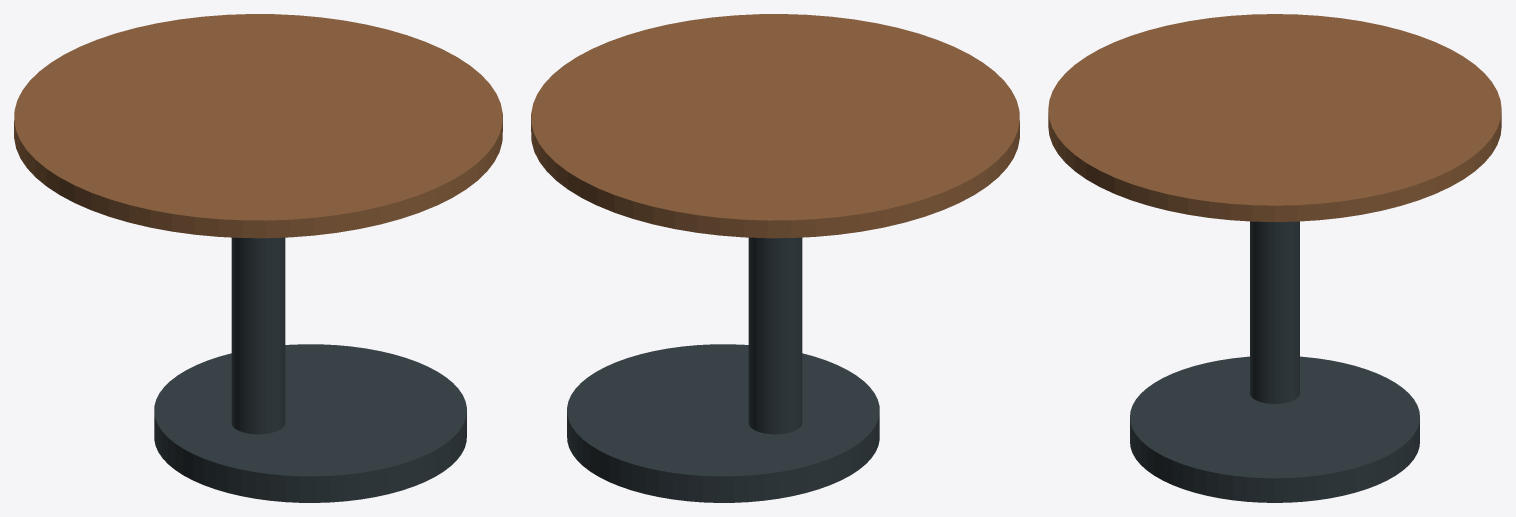
The model's file is source-edit.glb.
The picture shows the model from 3 angles, left to right: view 1: azimuth 30°, elevation 25°; view 2: azimuth 150°, elevation 25°; view 3: azimuth 270°, elevation 25°; orthographic projection. The views are drawn at different scales.
Visible parts, largest first — view 1: Round_Top, Base, Pedestal; view 2: Round_Top, Base, Pedestal; view 3: Round_Top, Base, Pedestal.
Part boxes in pixels (x1,y1,x2,y2): Round_Top: (14, 14, 502, 238); Base: (154, 344, 466, 502); Pedestal: (231, 237, 285, 434); Round_Top: (531, 14, 1019, 238); Base: (567, 344, 879, 502); Pedestal: (748, 237, 802, 434); Round_Top: (1048, 14, 1501, 221); Base: (1130, 356, 1419, 502); Pedestal: (1250, 221, 1299, 403).
Size of the model in its own units: 1 by 0.75 by 1.
